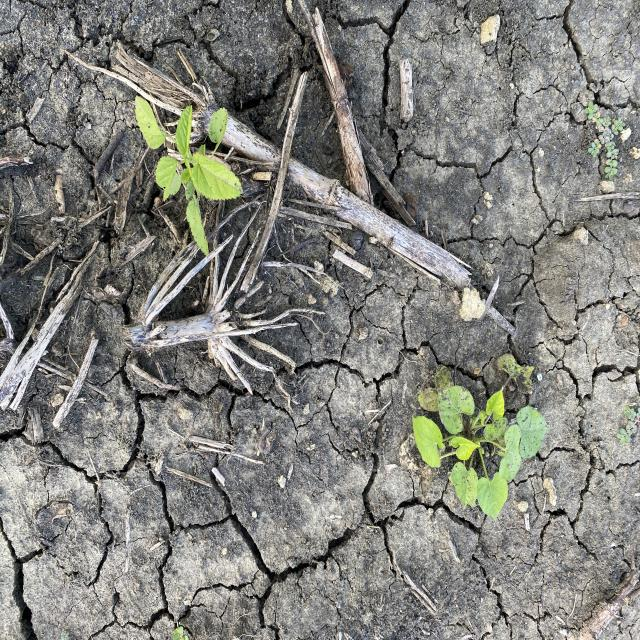MorningGlory: (411, 350, 548, 525)
PricklySida: (133, 94, 244, 258)
SpottedSpurge: (582, 101, 628, 185), (616, 400, 639, 446)
